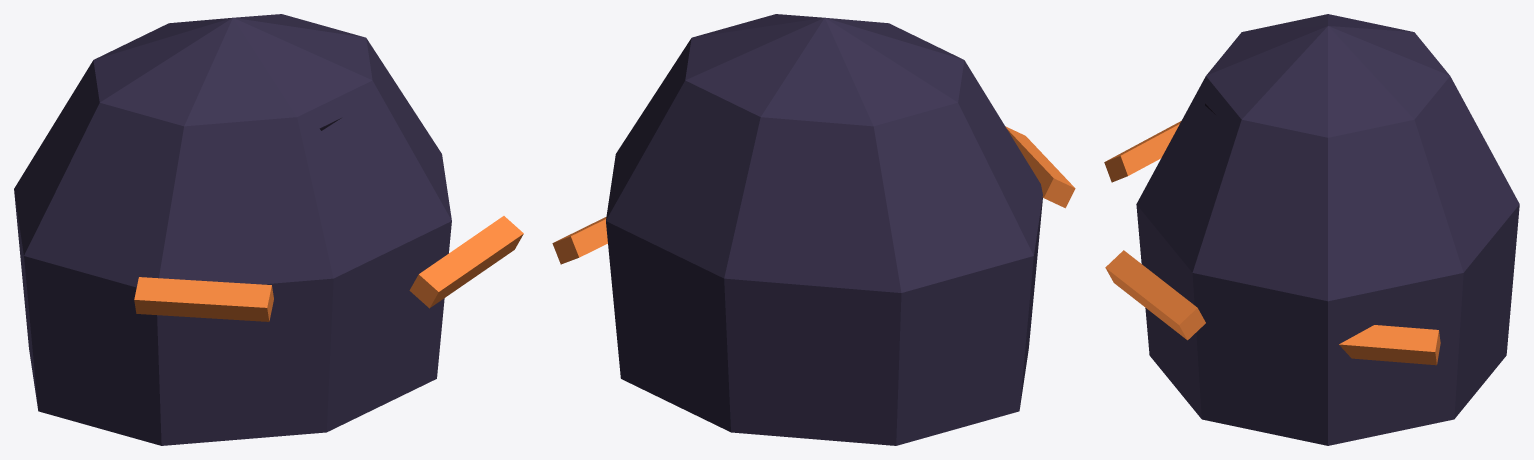
File: env_r16_meteor_chunk.glb
3 renders of one model, left to right at view 1: azimuth 30°, elevation 25°; view 2: azimuth 150°, elevation 25°; view 3: azimuth 270°, elevation 25°, orthographic. The views are drawn at different scales.
Visible parts, largest first — view 1: env_r16_meteor_chunk; view 2: env_r16_meteor_chunk; view 3: env_r16_meteor_chunk.
Boxes of the visible parts, <box> form: env_r16_meteor_chunk: <box>14,14,523,445</box>; env_r16_meteor_chunk: <box>552,14,1075,445</box>; env_r16_meteor_chunk: <box>1104,14,1519,445</box>.
Size of the model in its own units: 1.8 by 1.4 by 1.6.
Materials: 1 (1 with a texture image).
